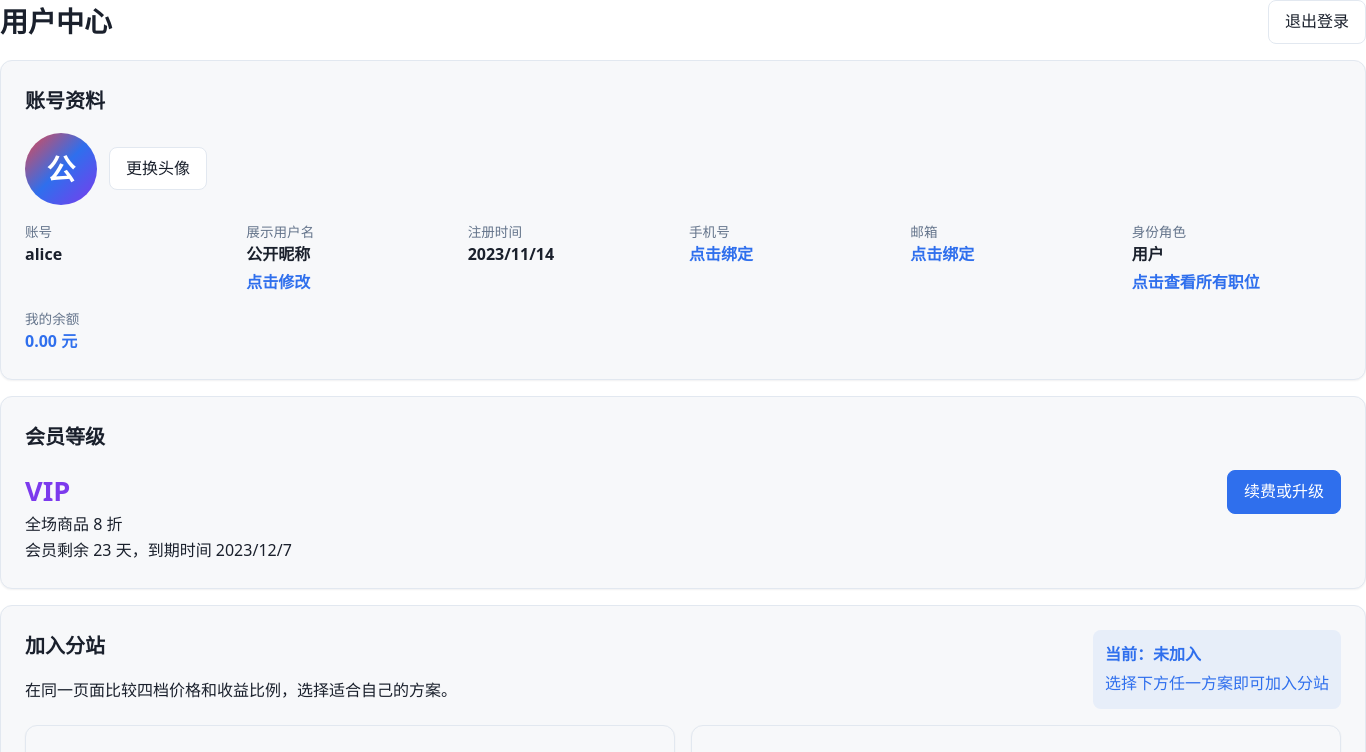
Test case: AccountPage › shows account actions, role details, and all sub-site prices on one page
The image size is (1366, 752).
Expected: the text "账号" is shown, [25,222,52,241]
Expected: the text "展示用户名" is shown, [246,222,314,241]
Click the button "点击查看所有职位": click(1196, 283) [1132,270,1260,296]
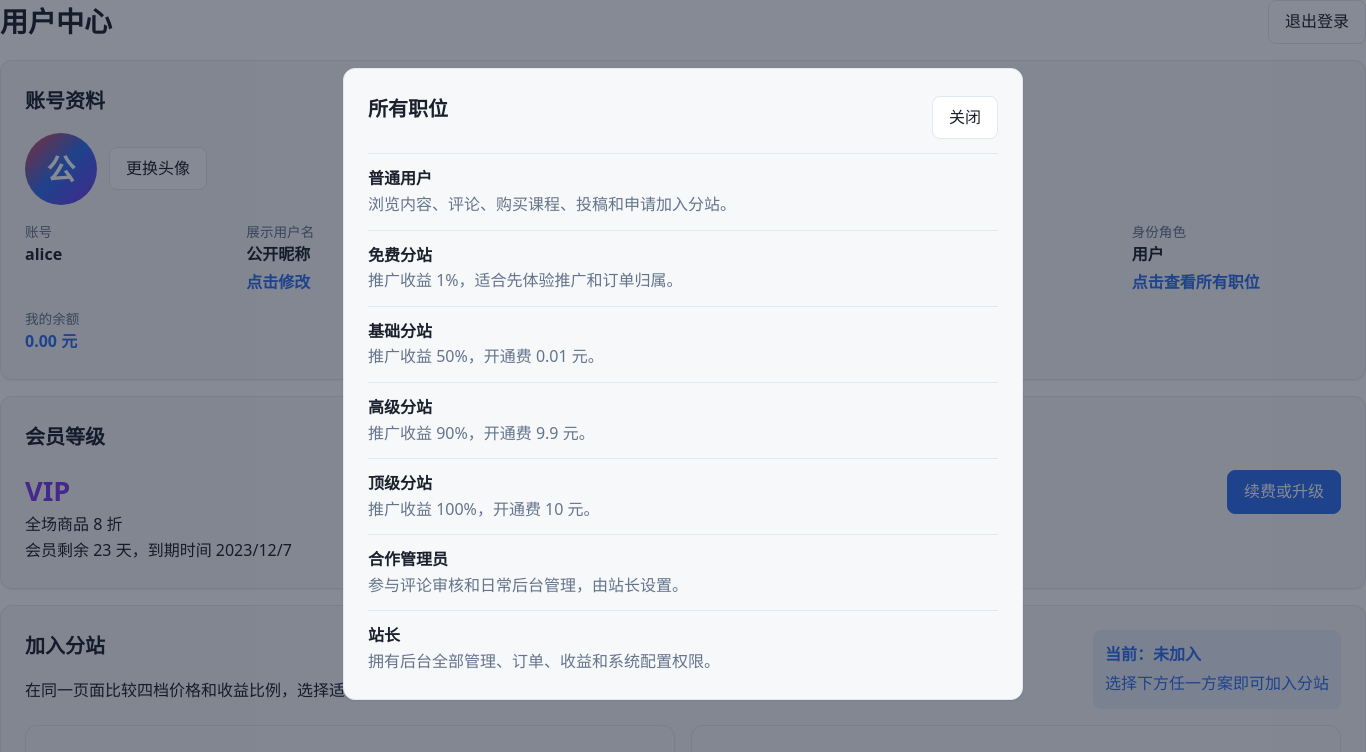
Result: the dialog "所有职位" is shown at [343,68,1023,700]
Result: the text "合作管理员" is shown at [368,548,448,570]
Result: the text "站长" is shown at [368,624,400,646]
Click the button "关闭": click(965, 117) [932,96,998,139]
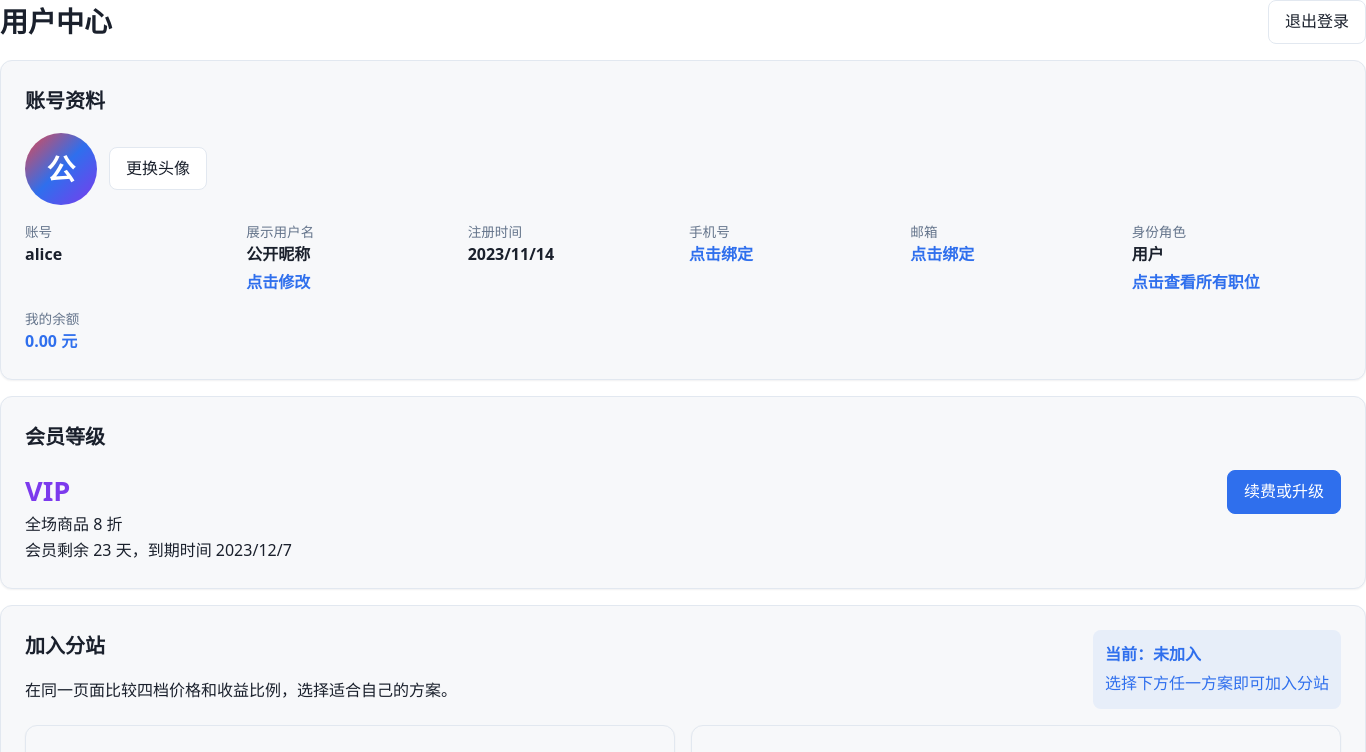
Click the button "点击修改": click(278, 283) [246,270,310,296]
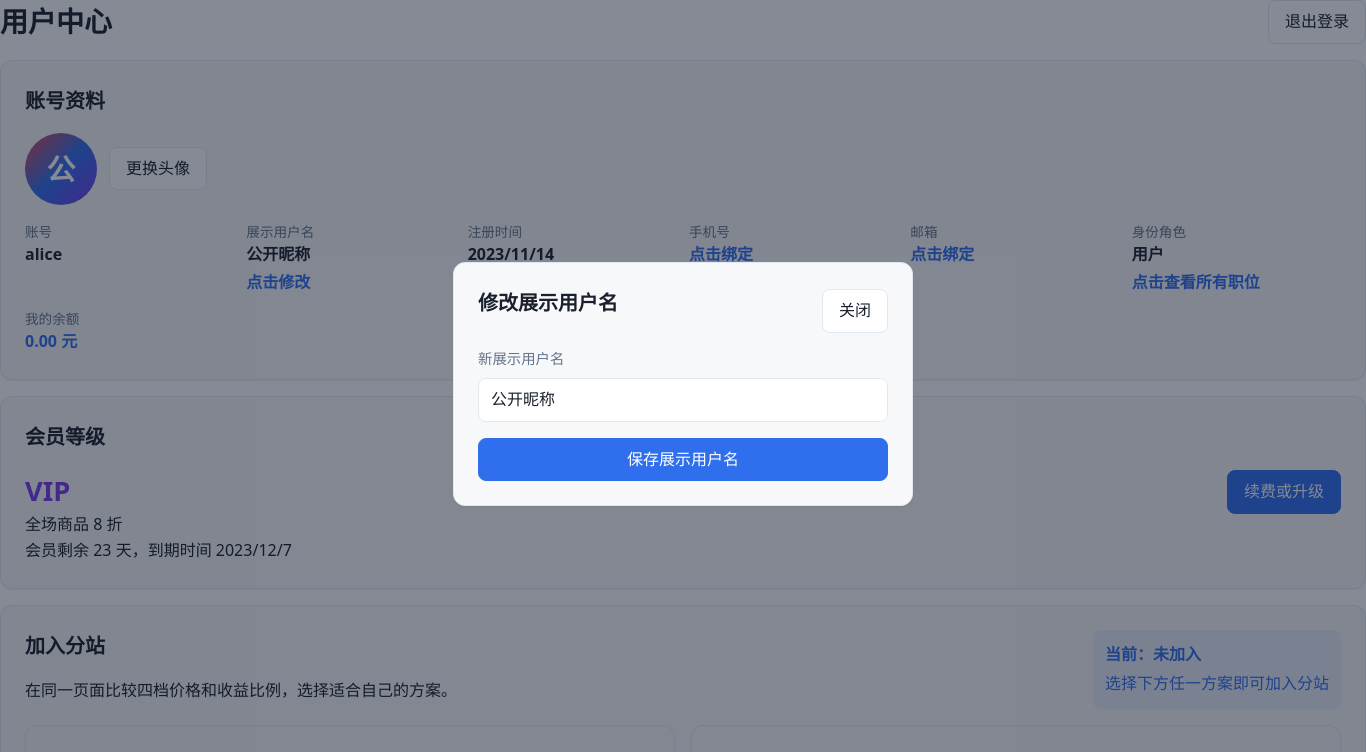
Result: the dialog "修改展示用户名" is shown at [453,262,913,506]
Click the button "关闭": click(855, 311) [822,289,888,333]
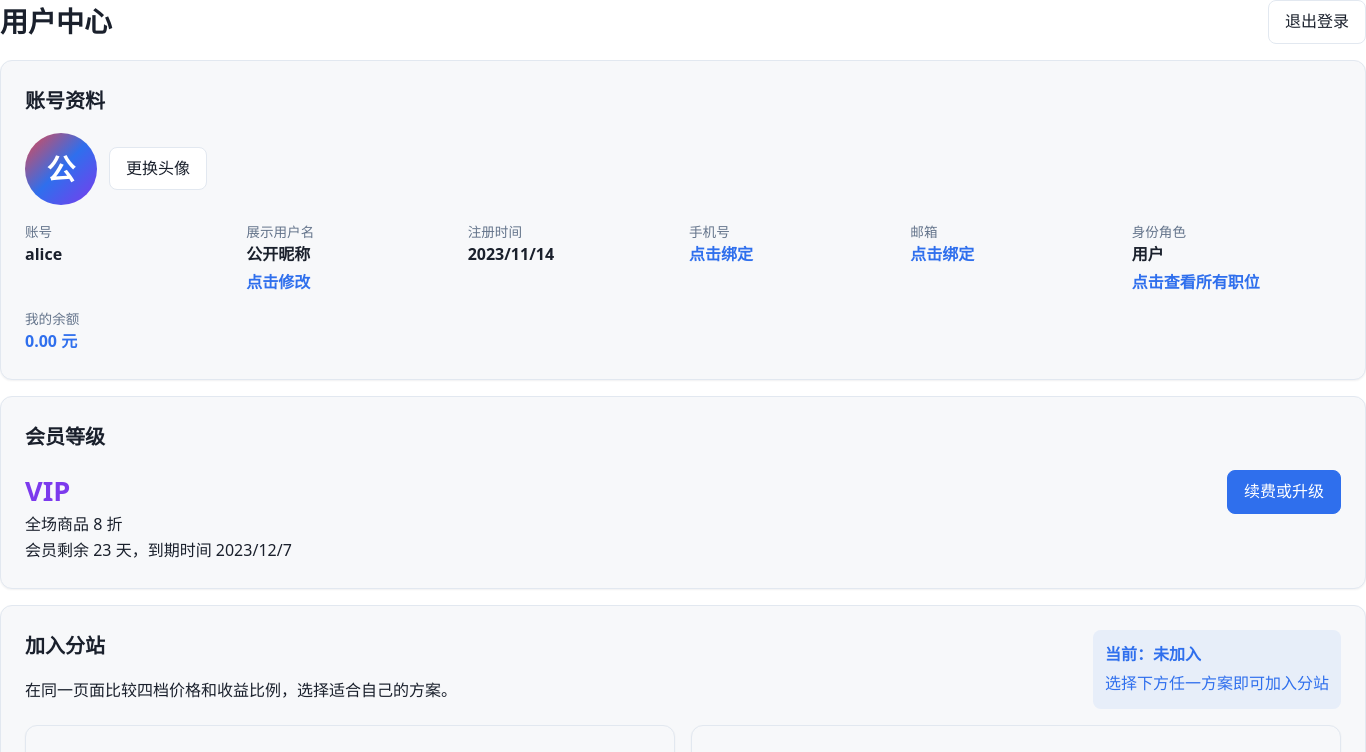
Click the button "点击绑定" below "手机号": click(721, 255) [689,242,753,268]
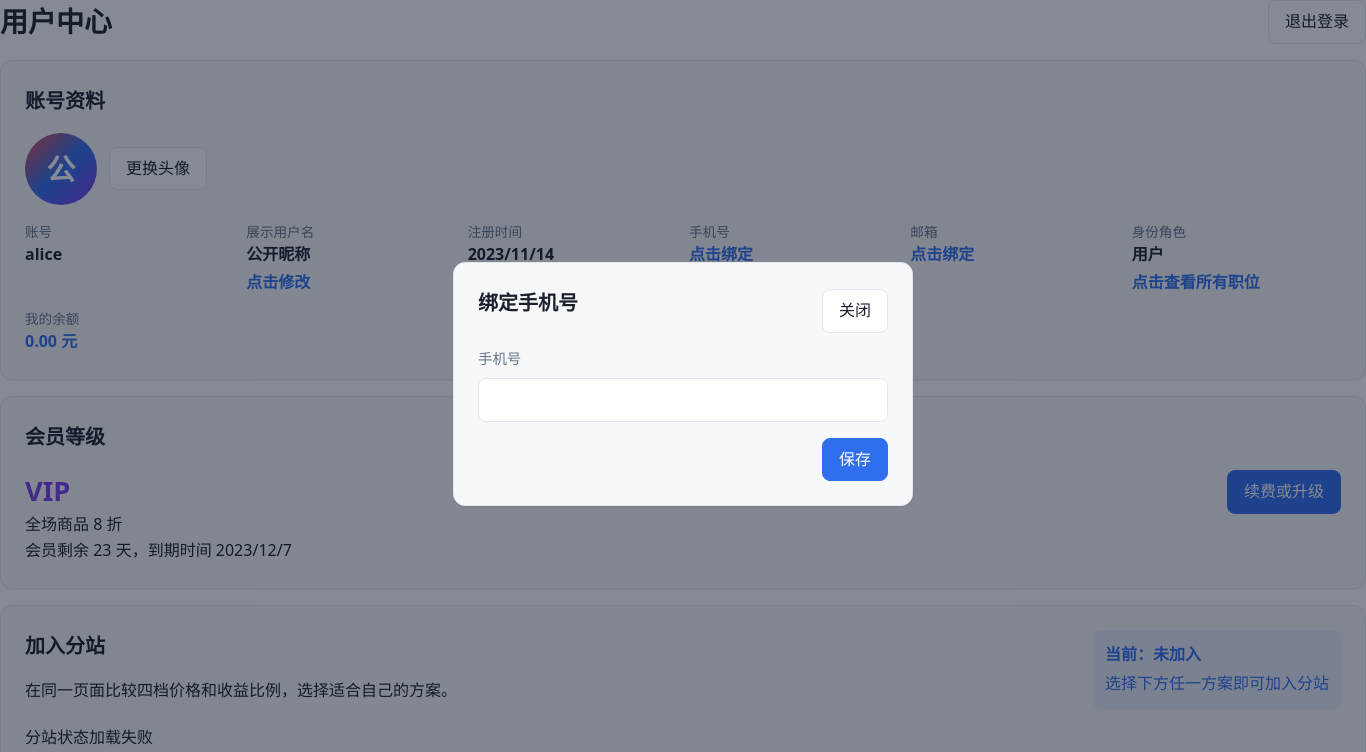
Result: the dialog "绑定手机号" is shown at [453,262,913,506]
